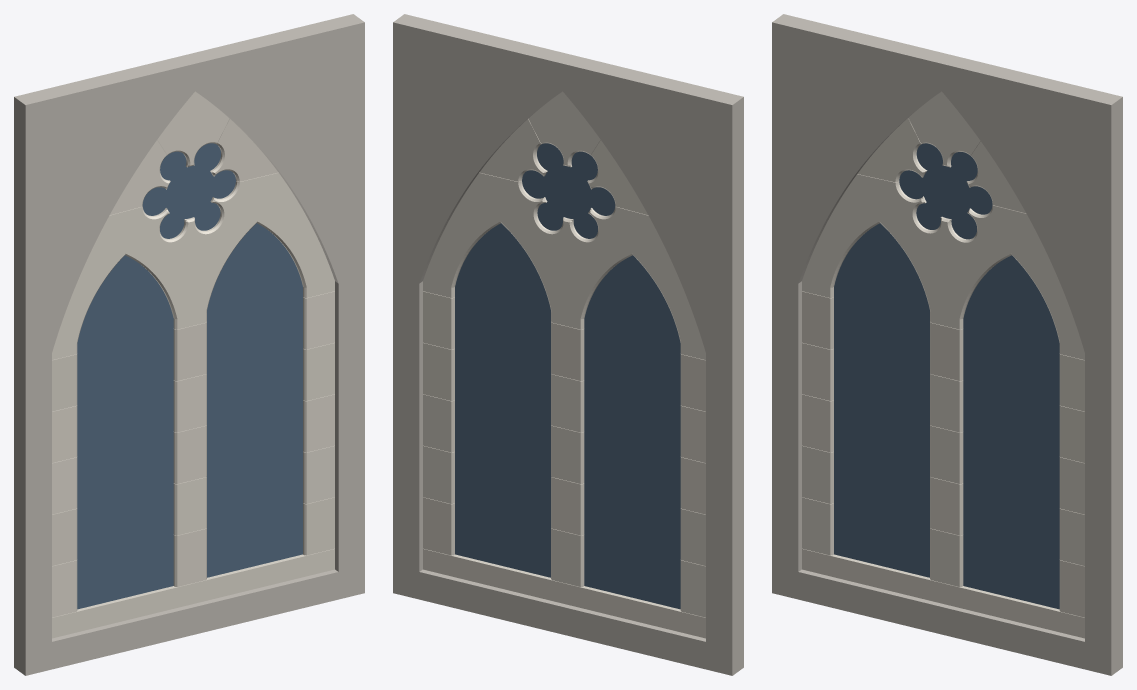
File: stleu_fig80_rebuild.glb
The picture shows the model from 3 angles, left to right: view 1: azimuth 30°, elevation 25°; view 2: azimuth 150°, elevation 25°; view 3: azimuth 330°, elevation 25°; orthographic projection.
Visible parts, largest first — view 1: stleu_fig80_rebuild__wall, stleu_fig80_rebuild__glass, stleu_fig80_rebuild__stone_P004, stleu_fig80_rebuild__stone_P020, stleu_fig80_rebuild__stone_P001, stleu_fig80_rebuild__stone_P002, stleu_fig80_rebuild__stone_P009, stleu_fig80_rebuild__stone_P006, stleu_fig80_rebuild__stone_P015, stleu_fig80_rebuild__stone_P012, stleu_fig80_rebuild__stone_P018, stleu_fig80_rebuild__stone_P003 (+10 smaller); view 2: stleu_fig80_rebuild__wall, stleu_fig80_rebuild__glass, stleu_fig80_rebuild__stone_P004, stleu_fig80_rebuild__stone_P020, stleu_fig80_rebuild__stone_P001, stleu_fig80_rebuild__stone_P002, stleu_fig80_rebuild__stone_P009, stleu_fig80_rebuild__stone_P006, stleu_fig80_rebuild__stone_P015, stleu_fig80_rebuild__stone_P012, stleu_fig80_rebuild__stone_P018, stleu_fig80_rebuild__stone_P003 (+10 smaller); view 3: stleu_fig80_rebuild__wall, stleu_fig80_rebuild__glass, stleu_fig80_rebuild__stone_P004, stleu_fig80_rebuild__stone_P020, stleu_fig80_rebuild__stone_P001, stleu_fig80_rebuild__stone_P003, stleu_fig80_rebuild__stone_P009, stleu_fig80_rebuild__stone_P006, stleu_fig80_rebuild__stone_P015, stleu_fig80_rebuild__stone_P012, stleu_fig80_rebuild__stone_P018, stleu_fig80_rebuild__stone_P002 (+10 smaller).
Part boxes in pixels (<box>): stleu_fig80_rebuild__wall: <box>14,14,364,675</box>; stleu_fig80_rebuild__glass: <box>77,143,302,609</box>; stleu_fig80_rebuild__stone_P004: <box>52,172,334,359</box>; stleu_fig80_rebuild__stone_P020: <box>52,548,334,638</box>; stleu_fig80_rebuild__stone_P001: <box>157,91,229,167</box>; stleu_fig80_rebuild__stone_P002: <box>210,119,278,181</box>; stleu_fig80_rebuild__stone_P009: <box>173,373,206,432</box>; stleu_fig80_rebuild__stone_P006: <box>173,322,206,380</box>; stleu_fig80_rebuild__stone_P015: <box>173,476,206,535</box>; stleu_fig80_rebuild__stone_P012: <box>173,425,206,483</box>; stleu_fig80_rebuild__stone_P018: <box>173,528,206,586</box>; stleu_fig80_rebuild__stone_P003: <box>110,140,170,214</box>; stleu_fig80_rebuild__wall: <box>393,14,743,675</box>; stleu_fig80_rebuild__glass: <box>455,143,680,609</box>; stleu_fig80_rebuild__stone_P004: <box>423,172,705,359</box>; stleu_fig80_rebuild__stone_P020: <box>423,548,705,638</box>; stleu_fig80_rebuild__stone_P001: <box>528,91,600,167</box>; stleu_fig80_rebuild__stone_P002: <box>479,119,547,181</box>; stleu_fig80_rebuild__stone_P009: <box>551,373,584,432</box>; stleu_fig80_rebuild__stone_P006: <box>551,322,584,380</box>; stleu_fig80_rebuild__stone_P015: <box>551,476,584,535</box>; stleu_fig80_rebuild__stone_P012: <box>551,425,584,483</box>; stleu_fig80_rebuild__stone_P018: <box>551,528,584,586</box>; stleu_fig80_rebuild__stone_P003: <box>587,140,647,214</box>; stleu_fig80_rebuild__wall: <box>772,14,1122,675</box>; stleu_fig80_rebuild__glass: <box>834,143,1059,609</box>; stleu_fig80_rebuild__stone_P004: <box>802,174,1084,359</box>; stleu_fig80_rebuild__stone_P020: <box>802,548,1084,638</box>; stleu_fig80_rebuild__stone_P001: <box>908,91,980,167</box>; stleu_fig80_rebuild__stone_P003: <box>857,118,927,182</box>; stleu_fig80_rebuild__stone_P009: <box>930,373,963,432</box>; stleu_fig80_rebuild__stone_P006: <box>930,322,963,380</box>; stleu_fig80_rebuild__stone_P015: <box>930,476,963,535</box>; stleu_fig80_rebuild__stone_P012: <box>930,425,963,483</box>; stleu_fig80_rebuild__stone_P018: <box>930,528,963,586</box>; stleu_fig80_rebuild__stone_P002: <box>967,141,1026,213</box>.
Size of the model in its own units: 514 by 827 by 30.
